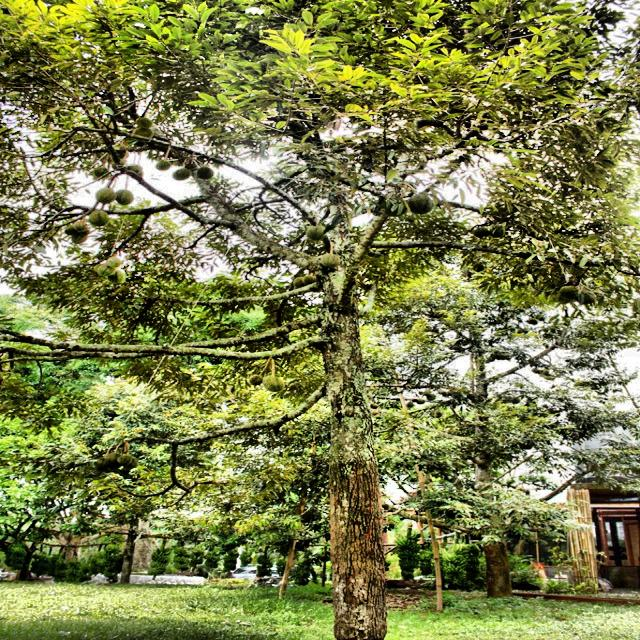arvore: (302, 233, 417, 640)
